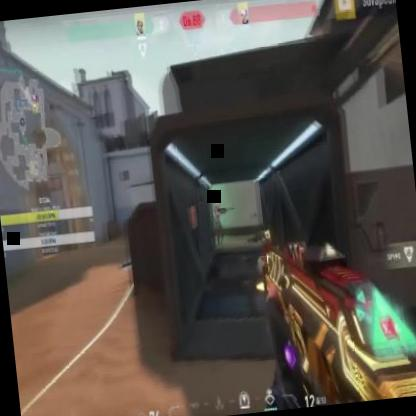enemy: (210, 198, 227, 248)
enemy_head: (214, 200, 220, 210)
